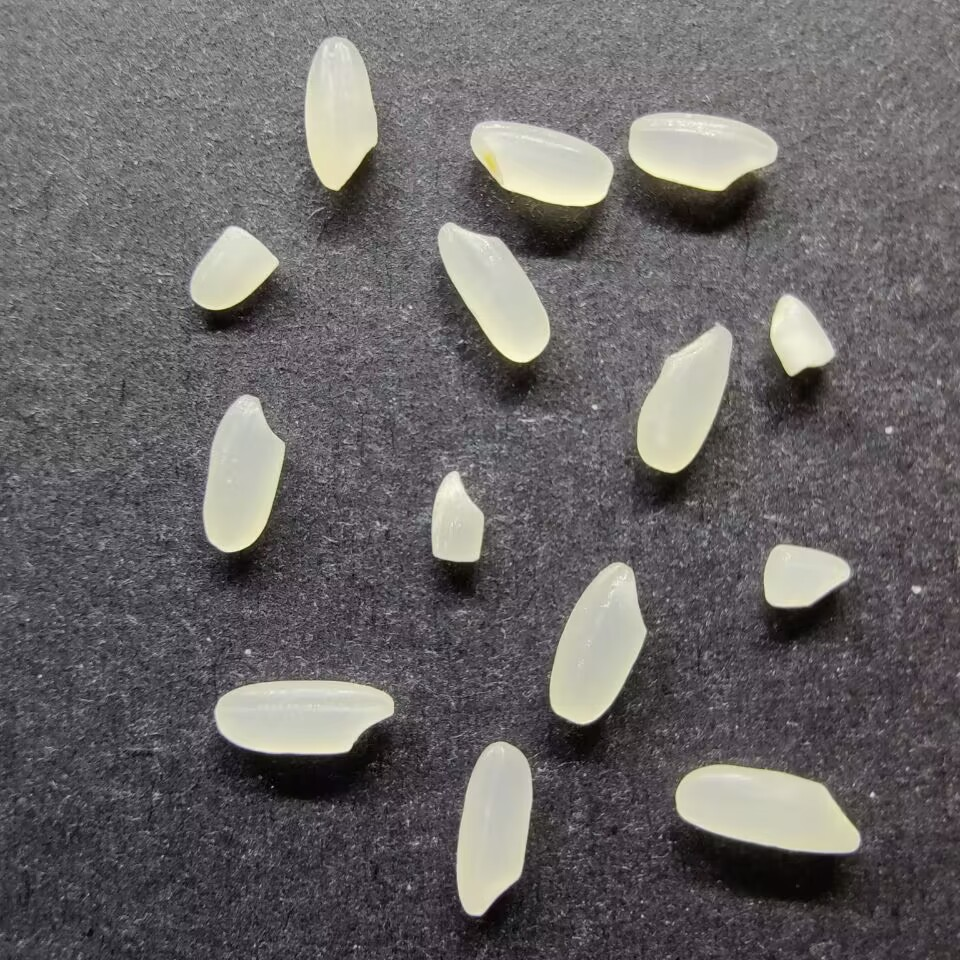broken: (187, 224, 280, 312), (767, 290, 839, 380), (760, 542, 852, 609), (429, 468, 486, 565)
rice: (673, 762, 863, 856), (434, 220, 554, 364), (545, 561, 649, 727), (633, 320, 735, 473), (211, 678, 397, 757), (453, 739, 534, 919), (198, 392, 287, 554), (468, 119, 615, 208), (625, 110, 781, 193), (301, 35, 379, 193)
